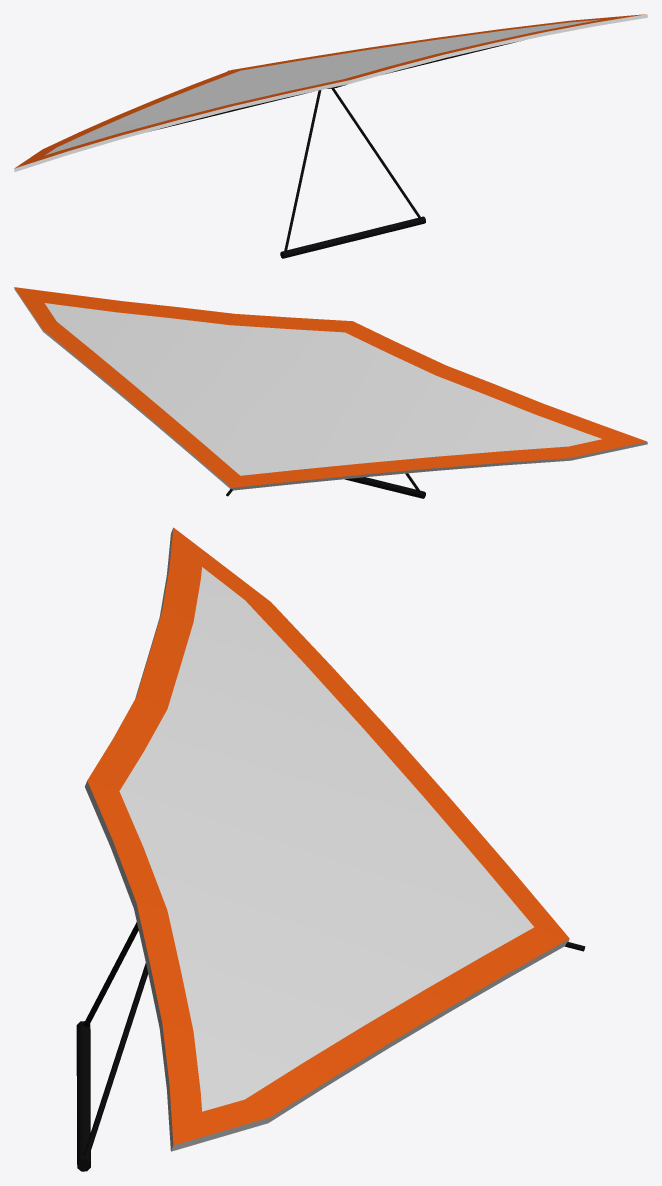
Rendered from Hangglider_1357.obj.
3 renders of one model, top to bottom at view 1: azimuth 30°, elevation 25°; view 2: azimuth 150°, elevation 25°; view 3: azimuth 270°, elevation 25°, orthographic. The views are drawn at different scales.
Visible parts, largest first — view 1: Box001; view 2: Box001; view 3: Box001.
Boxes of the visible parts, x1=… form: Box001: x1=14, y1=14, x2=647, y2=258; Box001: x1=14, y1=287, x2=647, y2=498; Box001: x1=76, y1=527, x2=585, y2=1171.
Size of the model in its own units: 139 by 33.64 by 48.21.
